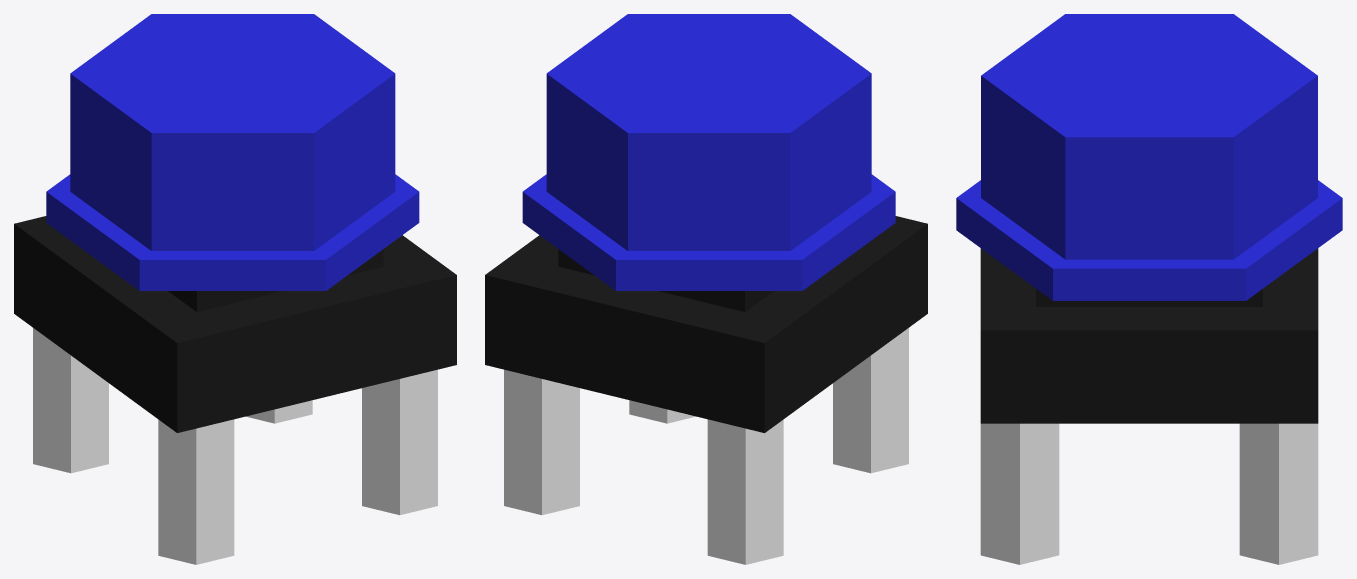
The model's file is button.fbx.
The picture shows the model from 3 angles, left to right: view 1: azimuth 30°, elevation 25°; view 2: azimuth 150°, elevation 25°; view 3: azimuth 270°, elevation 25°; orthographic projection. The views are drawn at different scales.
Visible parts, largest first — view 1: Cylinder.008; view 2: Cylinder.008; view 3: Cylinder.008.
Boxes of the visible parts, left/top/right/bottom form: Cylinder.008: left=14, top=14, right=456, bottom=564; Cylinder.008: left=485, top=14, right=927, bottom=564; Cylinder.008: left=956, top=14, right=1342, bottom=564.
Size of the model in its own units: 10.42 by 14.22 by 11.93.
